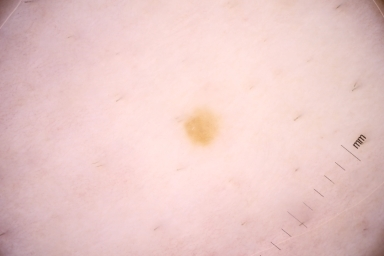nevus: (184, 111, 218, 152)
